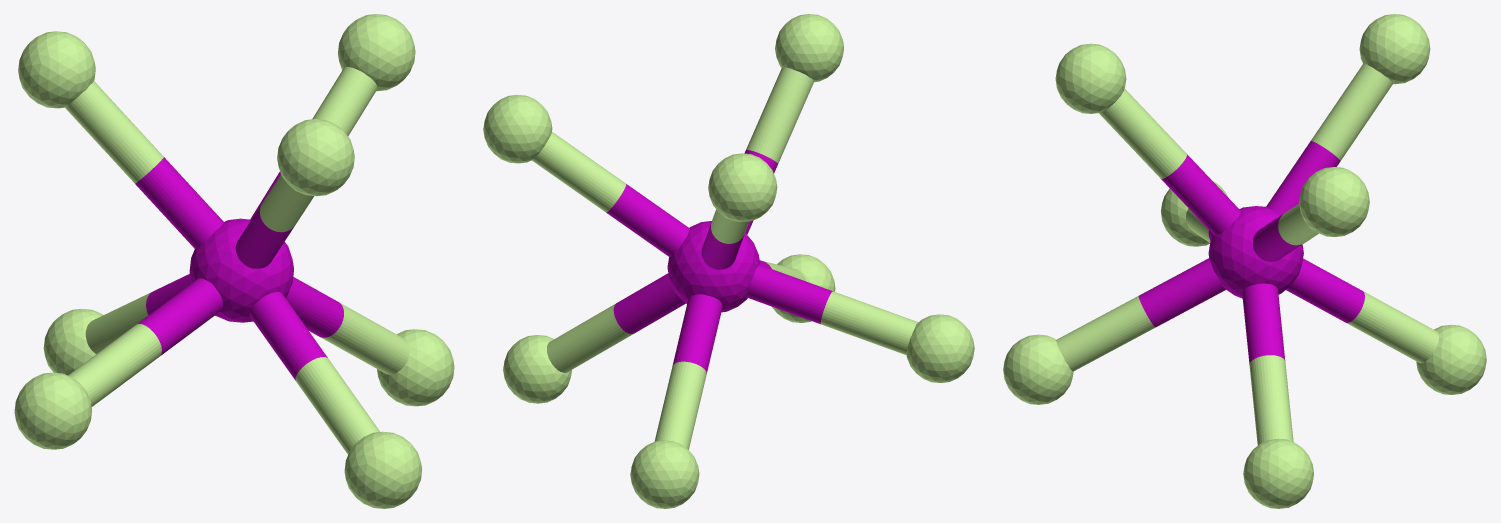
The picture shows the model from 3 angles, left to right: view 1: azimuth 30°, elevation 25°; view 2: azimuth 150°, elevation 25°; view 3: azimuth 270°, elevation 25°; orthographic projection. The views are drawn at different scales.
Visible parts, largest first — view 1: Shape_IndexedFaceSet.004, Shape_IndexedFaceSet.002, Shape_IndexedFaceSet.001, Shape_IndexedFaceSet.003, Shape_IndexedFaceSet, Shape_IndexedFaceSet.006, Shape_IndexedFaceSet.027, Shape_IndexedFaceSet.007, Shape_IndexedFaceSet.018, Shape_IndexedFaceSet.024, Shape_IndexedFaceSet.029, Shape_IndexedFaceSet.020 (+9 smaller); view 2: Shape_IndexedFaceSet.004, Shape_IndexedFaceSet.005, Shape_IndexedFaceSet, Shape_IndexedFaceSet.001, Shape_IndexedFaceSet.006, Shape_IndexedFaceSet.002, Shape_IndexedFaceSet.024, Shape_IndexedFaceSet.013, Shape_IndexedFaceSet.021, Shape_IndexedFaceSet.007, Shape_IndexedFaceSet.016, Shape_IndexedFaceSet.026 (+7 smaller); view 3: Shape_IndexedFaceSet.004, Shape_IndexedFaceSet.006, Shape_IndexedFaceSet.007, Shape_IndexedFaceSet.002, Shape_IndexedFaceSet.003, Shape_IndexedFaceSet, Shape_IndexedFaceSet.005, Shape_IndexedFaceSet.027, Shape_IndexedFaceSet.018, Shape_IndexedFaceSet.021, Shape_IndexedFaceSet.016, Shape_IndexedFaceSet.010 (+8 smaller).
Boxes of the visible parts, <box> form: Shape_IndexedFaceSet.004: <box>189,218,293,322</box>; Shape_IndexedFaceSet.002: <box>277,119,354,196</box>; Shape_IndexedFaceSet.001: <box>14,372,91,449</box>; Shape_IndexedFaceSet.003: <box>344,431,422,508</box>; Shape_IndexedFaceSet: <box>18,31,95,108</box>; Shape_IndexedFaceSet.006: <box>338,14,415,91</box>; Shape_IndexedFaceSet.027: <box>65,81,163,183</box>; Shape_IndexedFaceSet.007: <box>377,329,454,406</box>; Shape_IndexedFaceSet.018: <box>295,357,379,454</box>; Shape_IndexedFaceSet.024: <box>68,324,161,406</box>; Shape_IndexedFaceSet.029: <box>135,157,223,248</box>; Shape_IndexedFaceSet.020: <box>249,292,327,380</box>; Shape_IndexedFaceSet.004: <box>667,221,760,312</box>; Shape_IndexedFaceSet.005: <box>630,440,699,508</box>; Shape_IndexedFaceSet: <box>708,153,777,221</box>; Shape_IndexedFaceSet.001: <box>906,314,974,382</box>; Shape_IndexedFaceSet.006: <box>483,94,552,163</box>; Shape_IndexedFaceSet.002: <box>775,14,843,82</box>; Shape_IndexedFaceSet.024: <box>820,291,918,355</box>; Shape_IndexedFaceSet.013: <box>532,132,626,212</box>; Shape_IndexedFaceSet.021: <box>746,67,814,163</box>; Shape_IndexedFaceSet.007: <box>503,335,571,403</box>; Shape_IndexedFaceSet.016: <box>654,361,706,449</box>; Shape_IndexedFaceSet.026: <box>747,264,832,324</box>; Shape_IndexedFaceSet.004: <box>1208,206,1303,298</box>; Shape_IndexedFaceSet.006: <box>1299,167,1369,236</box>; Shape_IndexedFaceSet.007: <box>1243,438,1313,508</box>; Shape_IndexedFaceSet.002: <box>1055,43,1126,113</box>; Shape_IndexedFaceSet.003: <box>1003,334,1073,404</box>; Shape_IndexedFaceSet: <box>1359,14,1430,84</box>; Shape_IndexedFaceSet.005: <box>1416,324,1486,394</box>; Shape_IndexedFaceSet.027: <box>1311,63,1392,160</box>; Shape_IndexedFaceSet.018: <box>1056,296,1155,371</box>; Shape_IndexedFaceSet.021: <box>1099,88,1186,178</box>; Shape_IndexedFaceSet.016: <box>1346,291,1438,363</box>; Shape_IndexedFaceSet.010: <box>1249,355,1293,445</box>.
Size of the model in its own units: 2.77 by 2.26 by 2.69.
